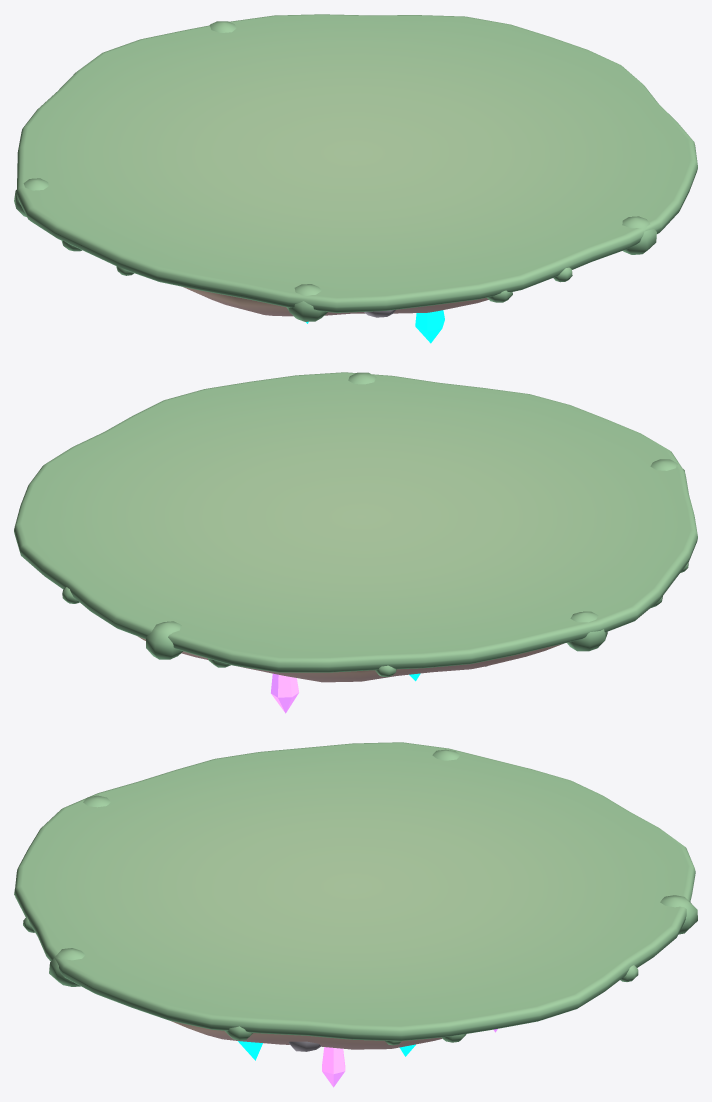
Rendered from islandMid.glb.
The picture shows the model from 3 angles, top to bottom: view 1: azimuth 30°, elevation 25°; view 2: azimuth 150°, elevation 25°; view 3: azimuth 270°, elevation 25°; orthographic projection.
Visible parts, largest first — view 1: Body, Glow_00E5FF; view 2: Body, Glow_7B2FF7; view 3: Body, Glow_7B2FF7.
Boxes of the visible parts, <box> form: Body: <box>14,14,697,321</box>; Glow_00E5FF: <box>306,310,444,343</box>; Body: <box>14,372,697,682</box>; Glow_7B2FF7: <box>271,673,299,713</box>; Body: <box>14,742,697,1051</box>; Glow_7B2FF7: <box>322,1029,497,1087</box>.
Size of the model in its own units: 98.76 by 26.23 by 98.77.
